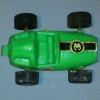carro: (3, 14, 98, 83)
